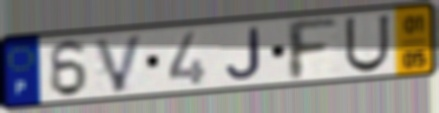4: (165, 29, 209, 87)
6: (46, 37, 90, 99)
F: (282, 17, 341, 83)
J: (224, 26, 264, 82)
U: (343, 12, 392, 75)
V: (91, 32, 147, 95)
